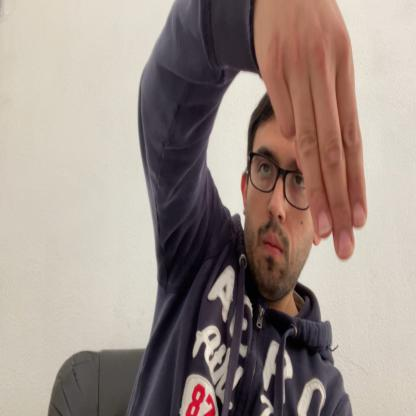M: (260, 3, 368, 261)
